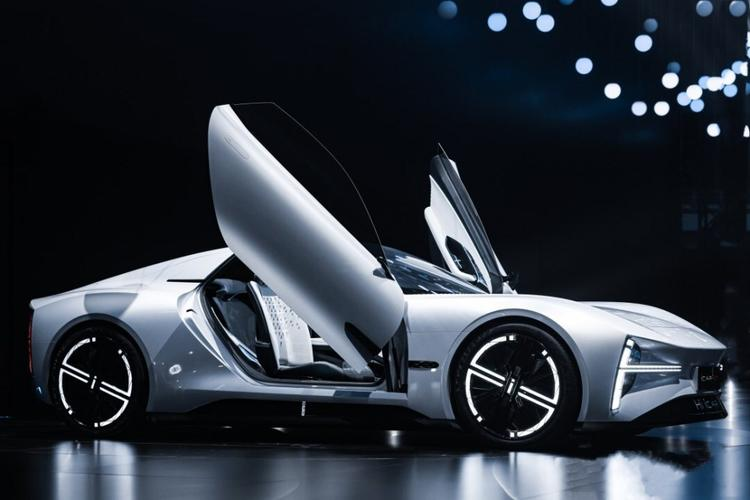汽车: (20, 97, 742, 453)
